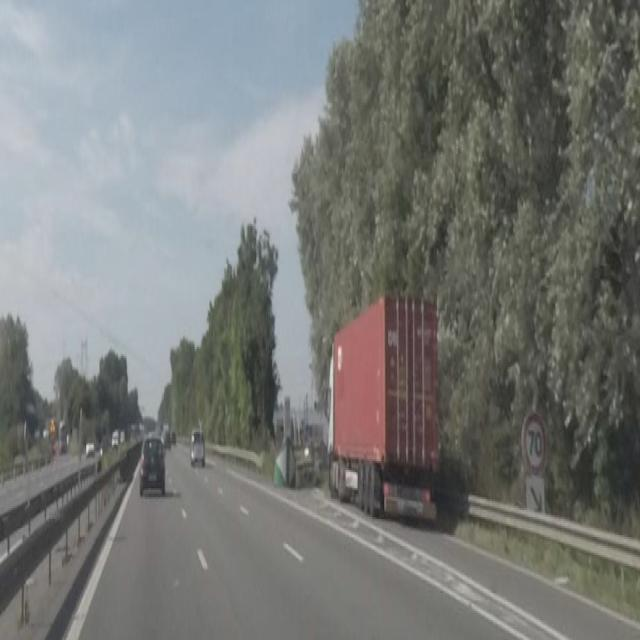speed_70: (523, 411, 547, 473)
